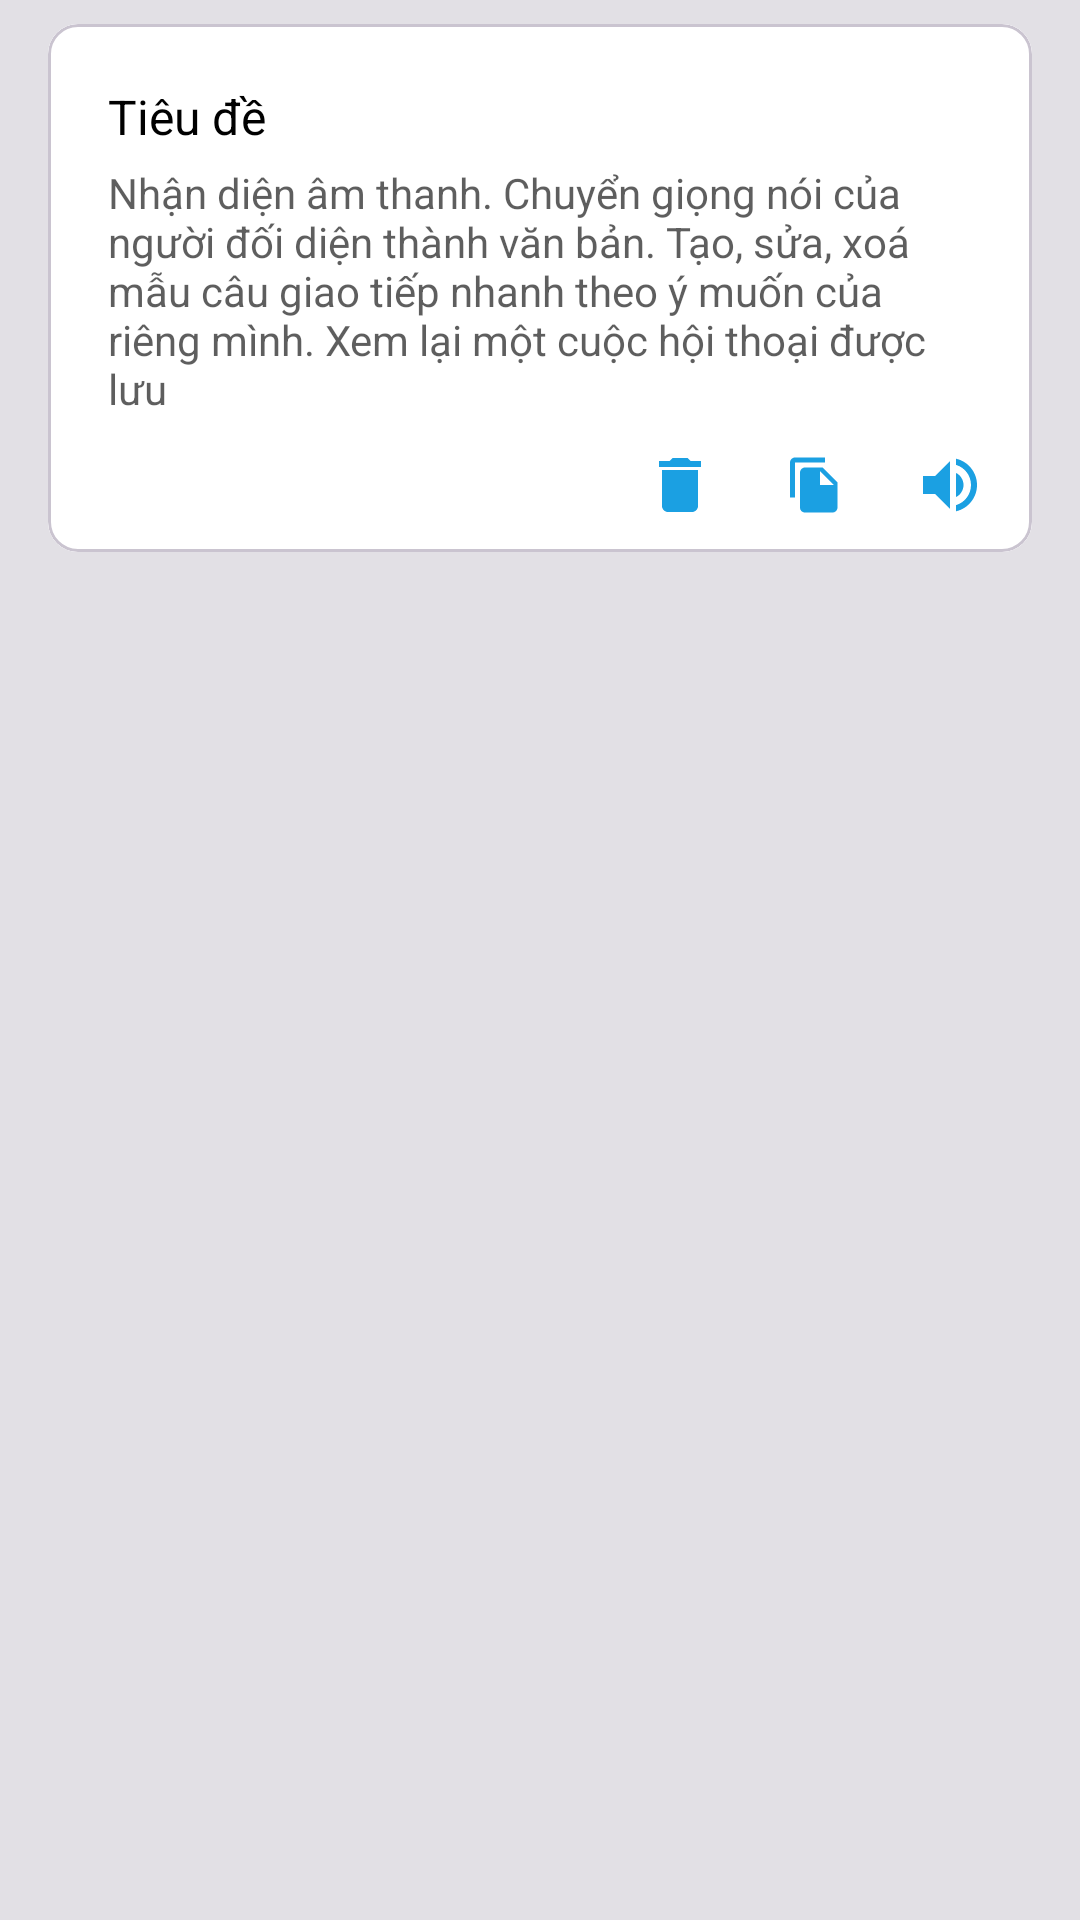

Icons on this 1080w x 1920h Android screen, each with its box as {"x1": x1, "y1": y1, "x2": x2, "y2": y2}:
delete: {"x1": 659, "y1": 458, "x2": 701, "y2": 512}
file: {"x1": 790, "y1": 457, "x2": 838, "y2": 513}
volume: {"x1": 923, "y1": 458, "x2": 977, "y2": 512}
